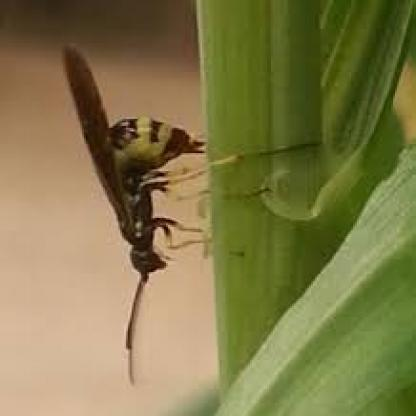sawfly: (57, 33, 307, 379)
